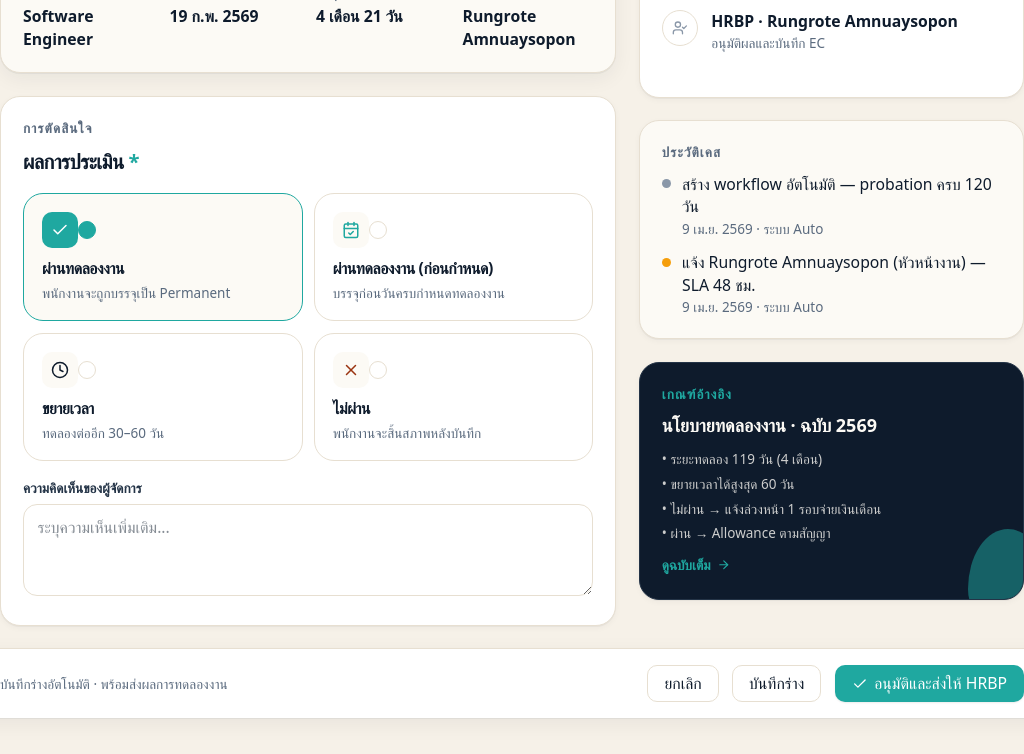
Test case: ProbationDetailPage — STA-125 pass-probation feedback › extend: later-than-due validation + "+119 days" hint preserved
The image size is (1024, 754).
(page scrolled)
Click the button "ขยายเวลา ทดลองต่ออีก 30–60 วัน": (60,370) [23,333,302,461]
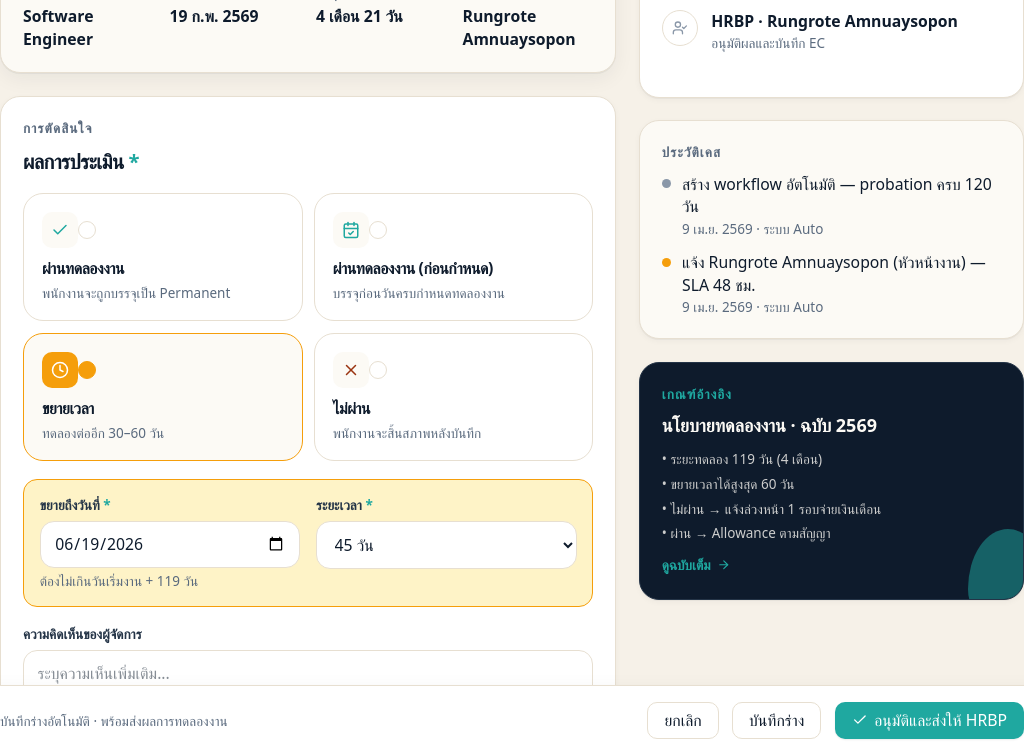
Expected: the date field named "ขยายถึงวันที่" is shown
Expected: the text "ต้องไม่เกินวันเริ่มงาน + 119 วัน" is shown, [40,572,198,590]
# date on/before end → error
In the date field named "ขยายถึงวันที่": (170,544) [40,521,300,568], type "2026-06-18"
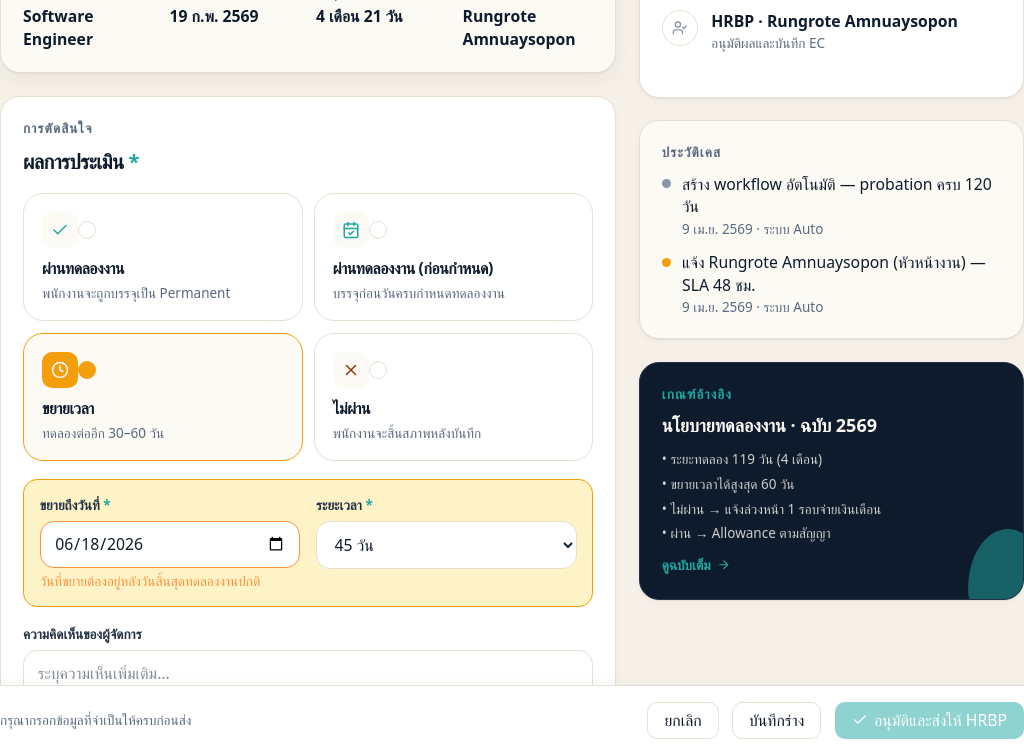
Expected: the text "วันที่ขยายต้องอยู่หลังวันสิ้นสุดทดลองงานปกติ" is shown, [40,572,260,590]
In the date field named "ขยายถึงวันที่": (170,544) [40,521,300,568], type "2026-06-01"
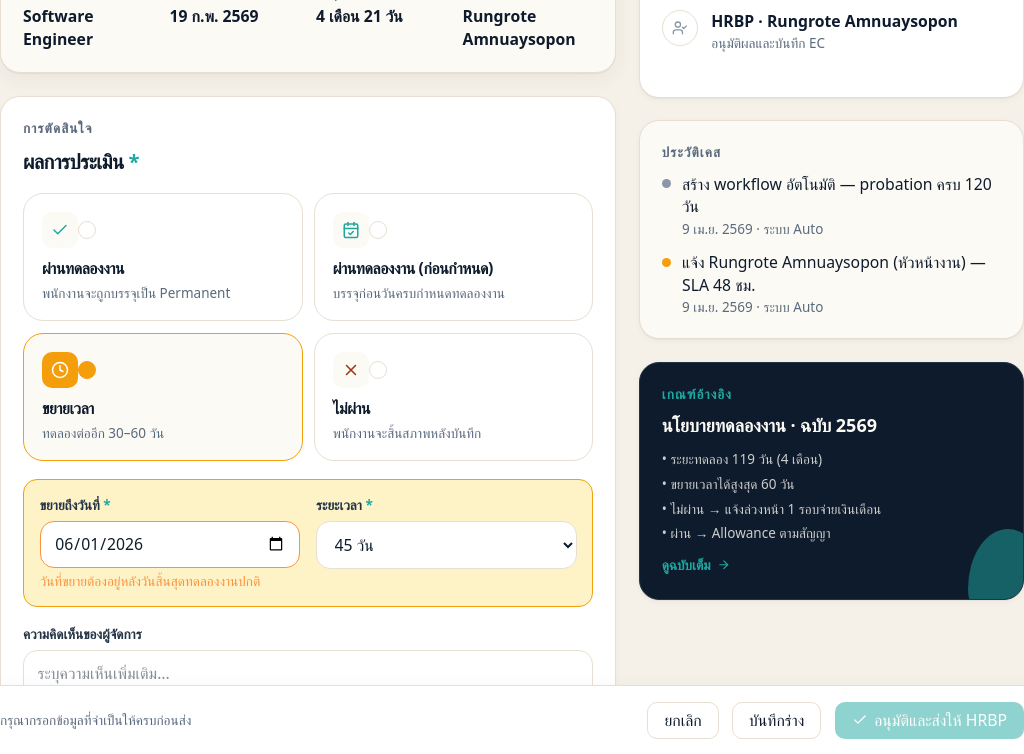
Expected: the text "วันที่ขยายต้องอยู่หลังวันสิ้นสุดทดลองงานปกติ" is shown, [40,572,260,590]
# date after end → error clears, hint returns
In the date field named "ขยายถึงวันที่": (170,544) [40,521,300,568], type "2026-07-01"
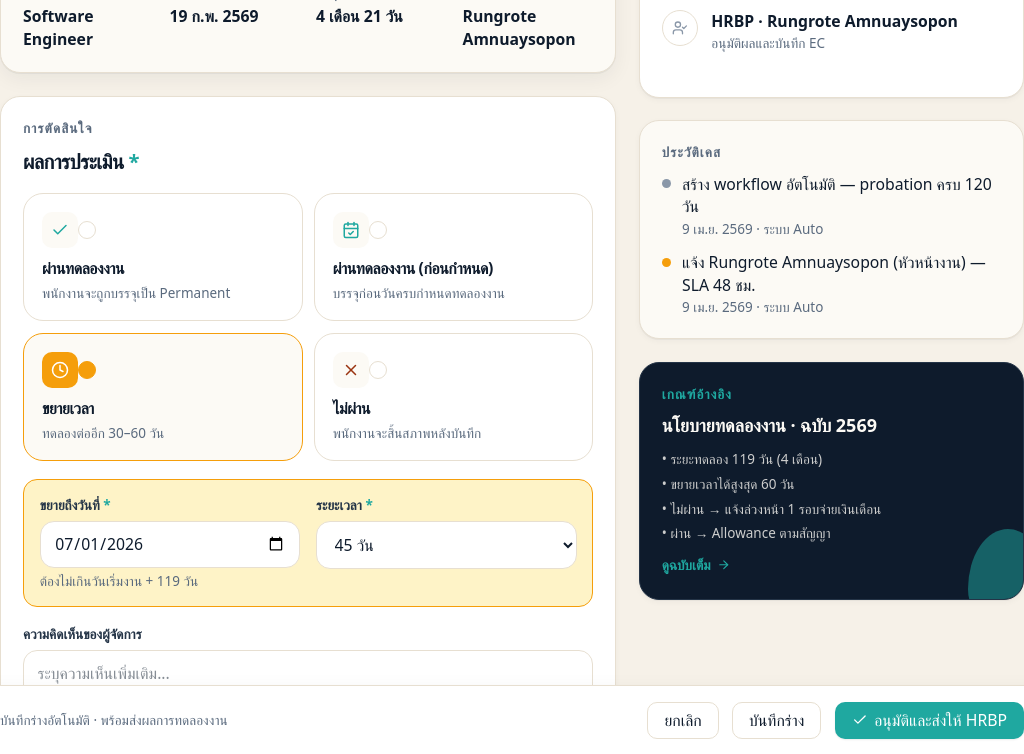
Expected: the text "วันที่ขยายต้องอยู่หลังวันสิ้นสุดทดลองงานปกติ" is gone
Expected: the text "ต้องไม่เกินวันเริ่มงาน + 119 วัน" is shown, [40,572,198,590]
